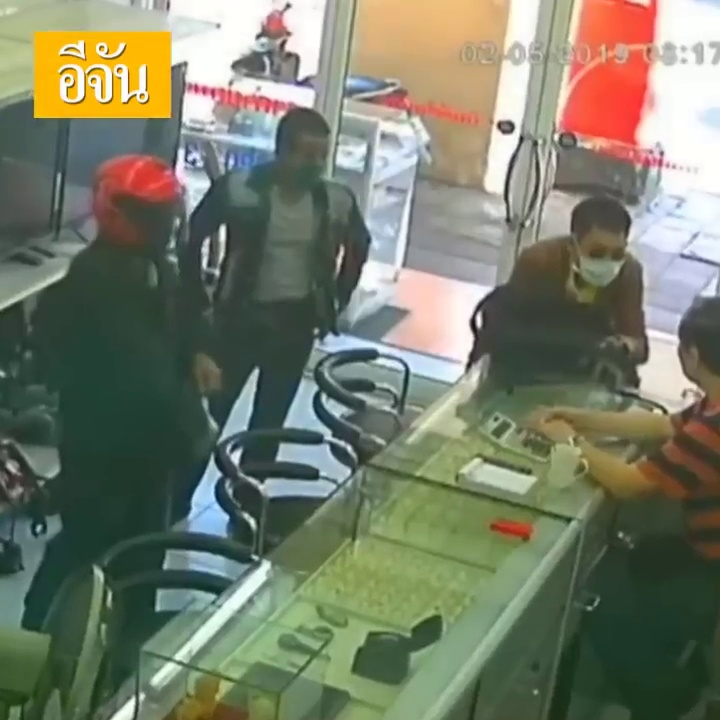helmet: (90, 143, 195, 257)
